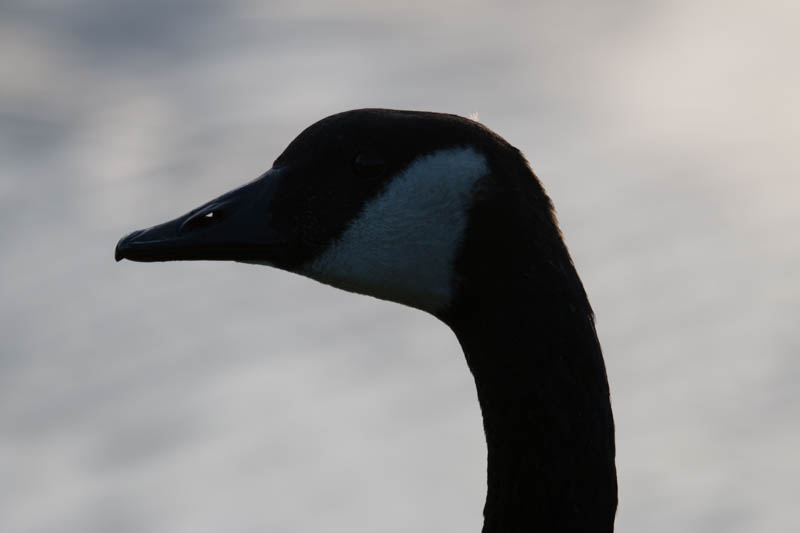goose-head: (115, 109, 578, 326)
